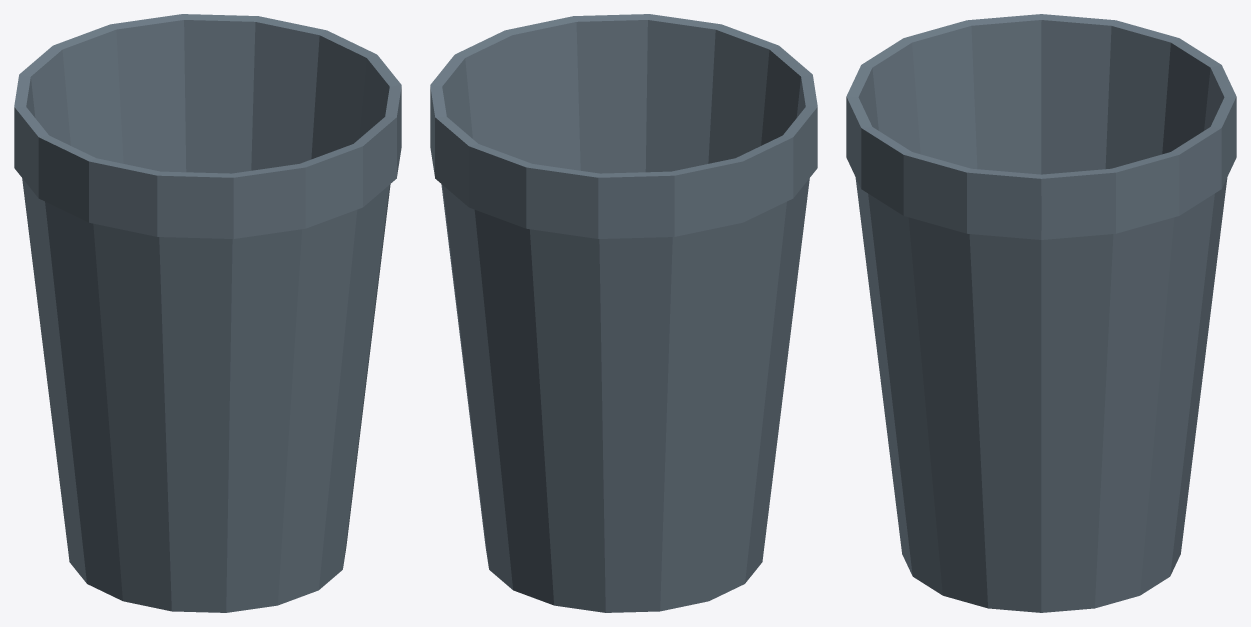
Rendered from copo.fbx.
3 renders of one model, left to right at view 1: azimuth 30°, elevation 25°; view 2: azimuth 150°, elevation 25°; view 3: azimuth 270°, elevation 25°, orthographic.
Parts seen in each view (by area): view 1: Cylinder.001; view 2: Cylinder.001; view 3: Cylinder.001.
Boxes of the visible parts, x1,y1,x2,y2 form: Cylinder.001: [14, 14, 401, 612]; Cylinder.001: [430, 14, 817, 612]; Cylinder.001: [846, 14, 1236, 612].
Bounding box in the file's own units: 280 × 362 × 280.
